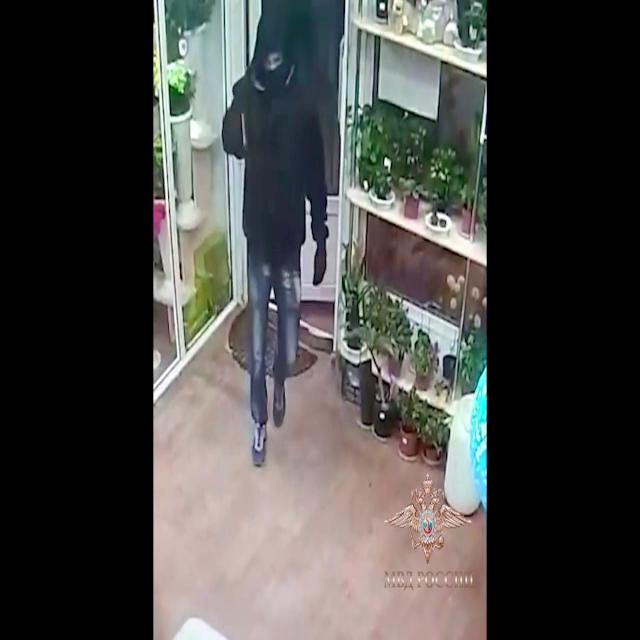gun: (224, 14, 329, 468), (237, 109, 251, 154)
